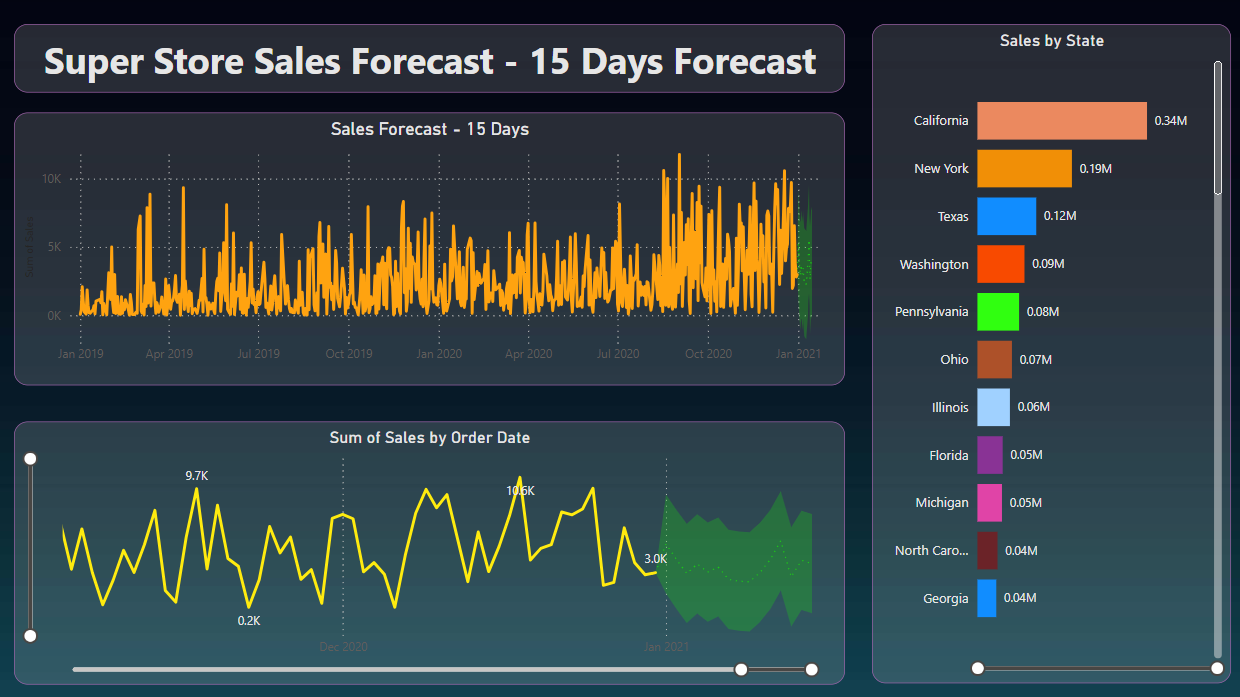

What the dashboard file says about the page in this screenshot:
{"tool":"powerbi","page":{"name":"Page 2","canvas":[1280,720],"ordinal":1},"visuals":[{"type":"lineChart","title":"Sales Forecast - 15 Days","fields":{"Y":["Sum(SuperStore_Sales_Dataset.Sales)"],"Category":["SuperStore_Sales_Dataset.Order Date"]},"box":[21.7,118.3,848.3,278.3],"z":0},{"type":"lineChart","fields":{"Y":["Sum(SuperStore_Sales_Dataset.Sales)"],"Category":["SuperStore_Sales_Dataset.Order Date"]},"box":[21.7,433.3,848.3,268.3],"z":1000},{"type":"clusteredBarChart","title":" Sales by State","fields":{"Category":["SuperStore_Sales_Dataset.State"],"Y":["Sum(SuperStore_Sales_Dataset.Sales)"]},"box":[898.3,28.3,366.7,673.3],"z":2000},{"type":"textbox","box":[21.7,28.3,848.3,70],"z":2001}]}

Visuals, with their boxes in screenshot pixels (x1, y1, x2, y2), scaled from the page's 1280x720 canvas onto the 1240x697 screenshot:
"Sales Forecast - 15 Days" lineChart: <box>21,115,843,384</box>
lineChart - Sum(SuperStore_Sales_Dataset.Sales) x SuperStore_Sales_Dataset.Order Date: <box>21,419,843,679</box>
" Sales by State" clusteredBarChart: <box>870,27,1225,679</box>
textbox: <box>21,27,843,95</box>
